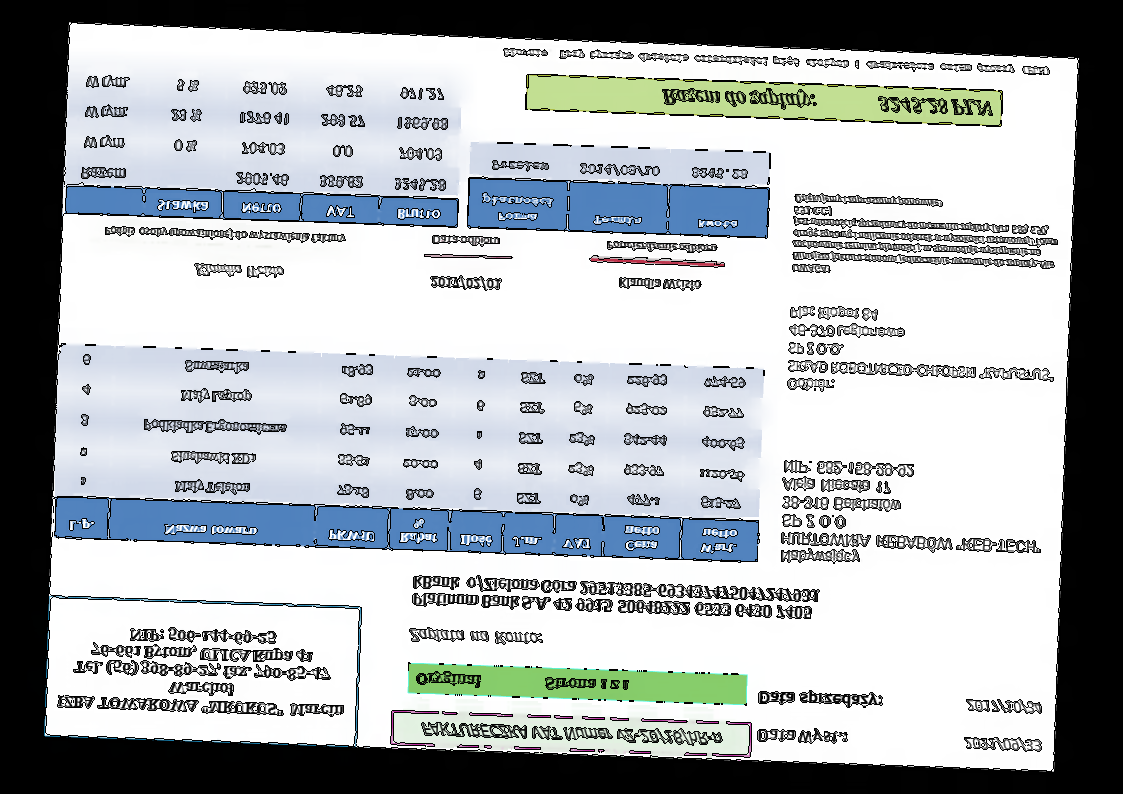Table: (53, 342, 766, 564), (63, 61, 462, 229), (465, 140, 772, 240)
TextBox: (779, 457, 1048, 574), (54, 620, 348, 722), (785, 301, 1059, 402), (789, 190, 1063, 285), (409, 573, 821, 622), (500, 45, 1053, 78), (659, 83, 995, 119), (418, 718, 726, 749), (413, 668, 631, 697), (103, 223, 349, 246), (406, 624, 546, 650), (755, 686, 886, 713), (756, 724, 850, 748), (604, 238, 720, 257), (191, 261, 286, 283), (961, 732, 1043, 756), (963, 697, 1044, 718), (615, 275, 702, 293), (427, 273, 504, 293), (429, 233, 500, 249)
